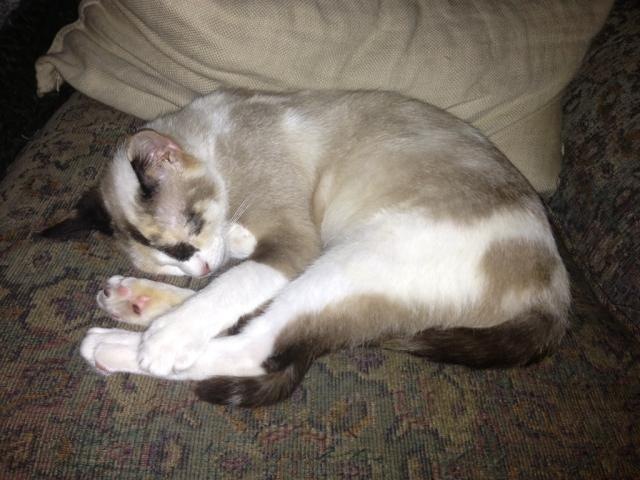Cat: (37, 82, 576, 408)
